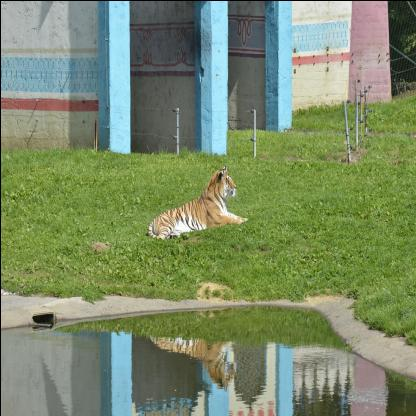tiger: (214, 162, 240, 198)
